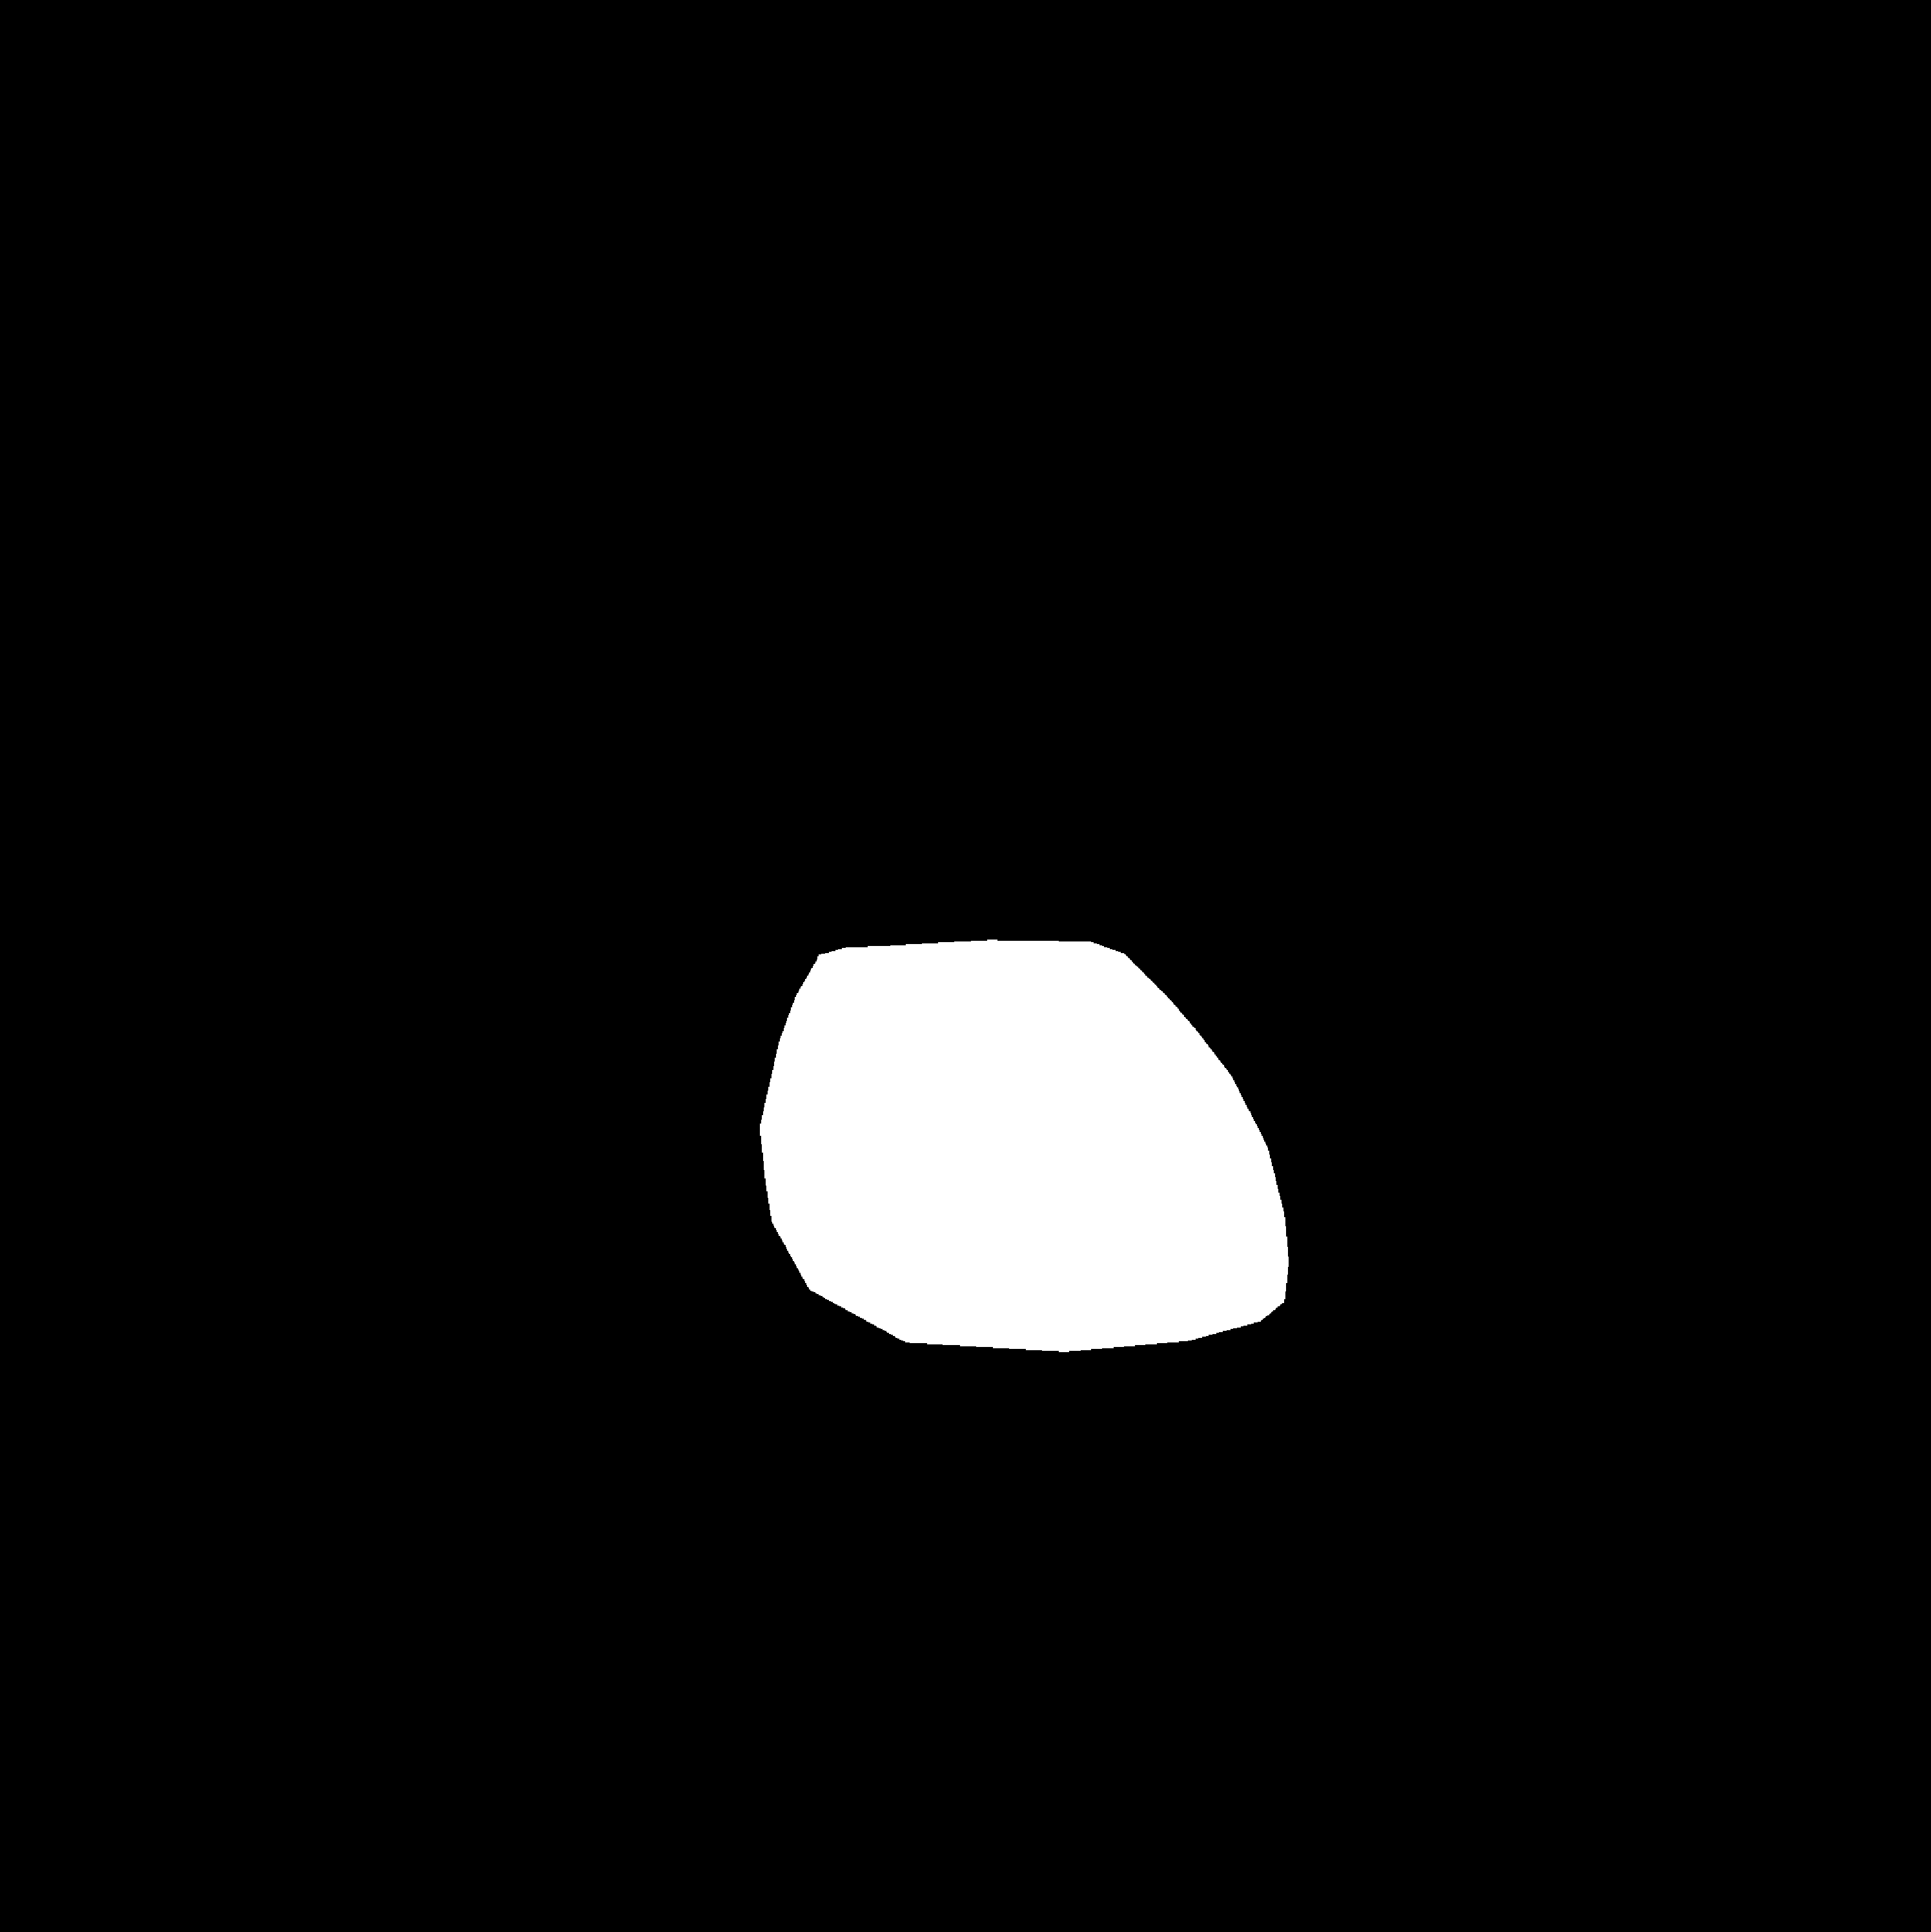heart: (757, 920, 1293, 1392)
left_lung: (313, 354, 891, 1430)
right_lung: (1010, 382, 1551, 1461)
